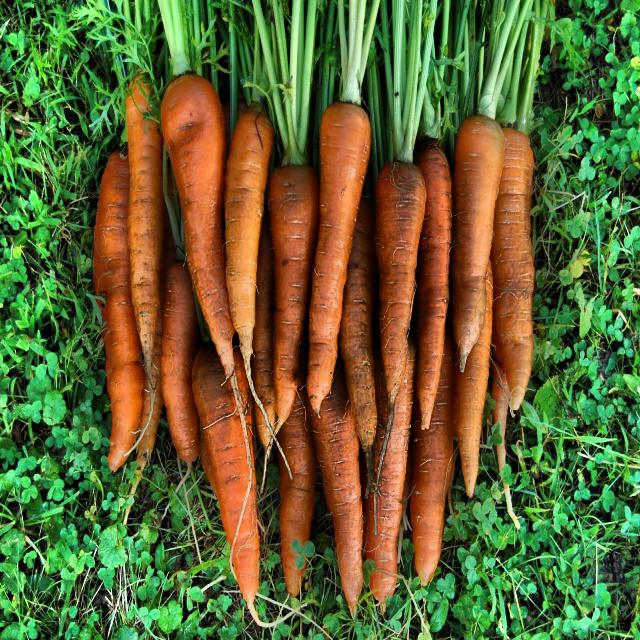carrot: (103, 8, 542, 553)
